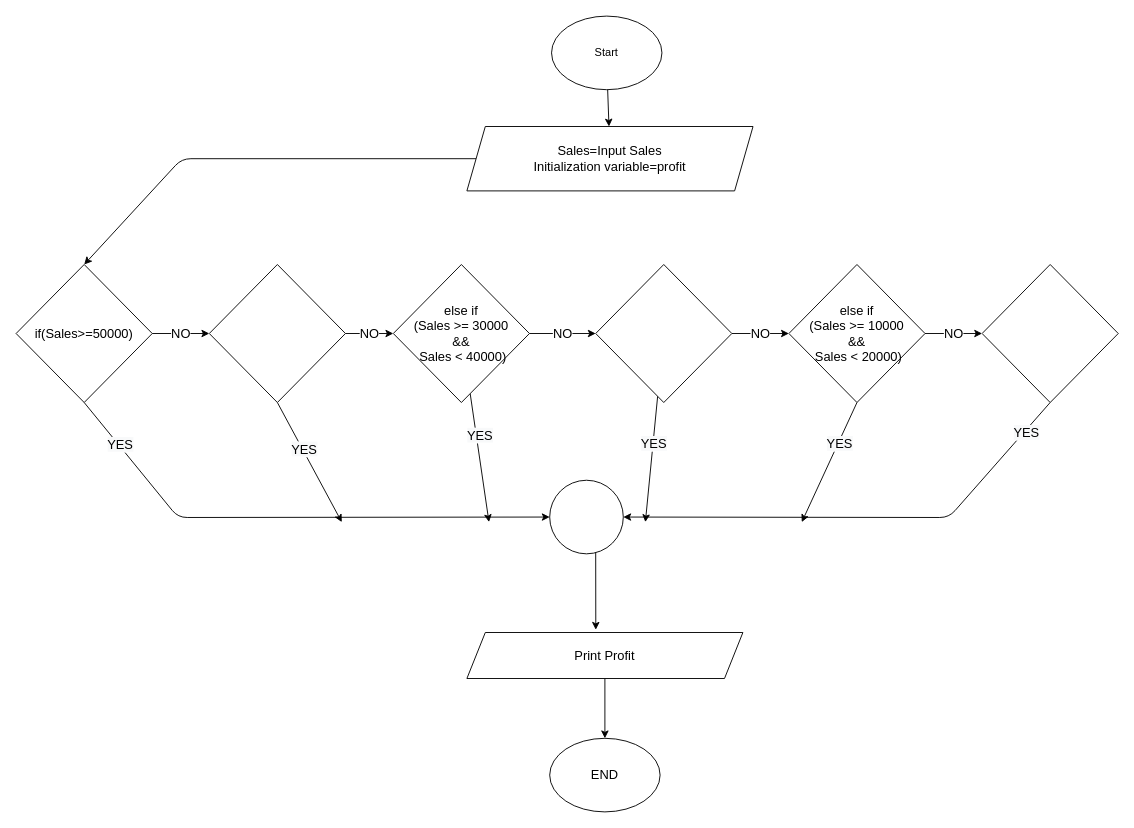
The diagram is 1134 pixels wide and 828 high, and some of its shapes have lost their labels. The shapes that lost their labels are listed below. From the top down, each one's centre as x and y in pixels, then its label:
At (276,333): "else if (Sales >= 40000 && Sales < 50000)".
At (663,333): "else if (Sales >= 20000 && Sales < 30000)".
At (1049,333): "else (Sales < 10000)".
